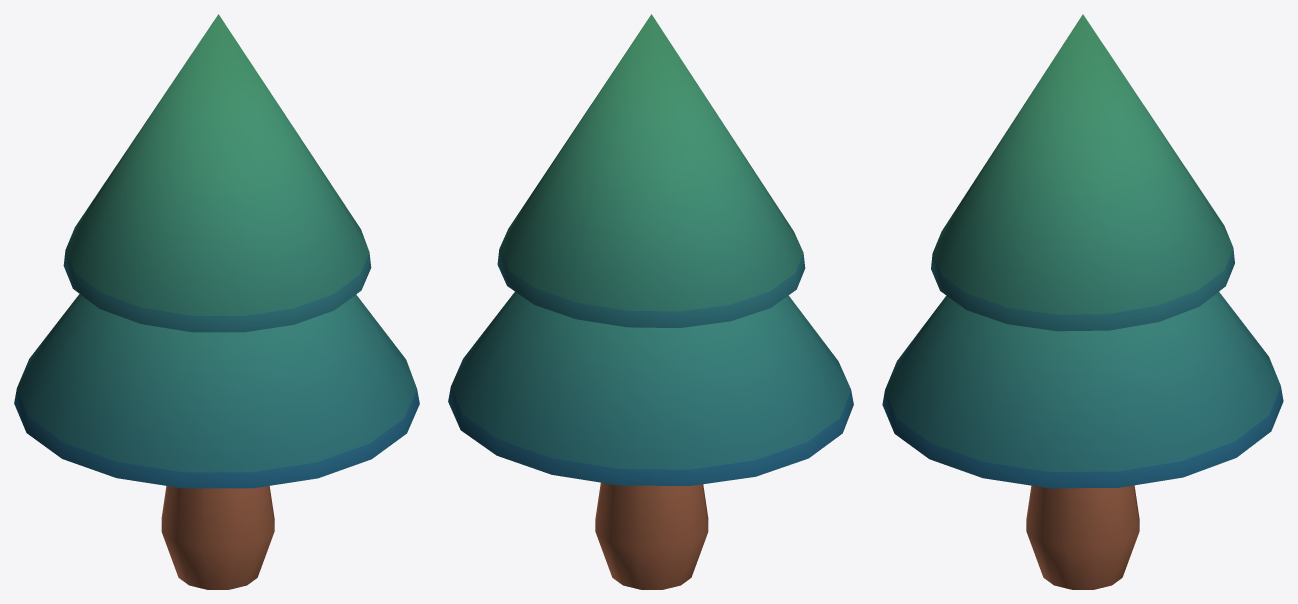
File: tree.gltf
3 renders of one model, left to right at view 1: azimuth 30°, elevation 25°; view 2: azimuth 150°, elevation 25°; view 3: azimuth 270°, elevation 25°, orthographic.
Parts seen in each view (by area): view 1: tree; view 2: tree; view 3: tree.
Part boxes in pixels (x1,y1,x2,y2): tree: (14,14,419,589); tree: (448,14,853,589); tree: (882,14,1283,589).
Bounding box in the file's own units: 2.28 × 3.49 × 2.27.
Materials: 1 (1 with a texture image).
